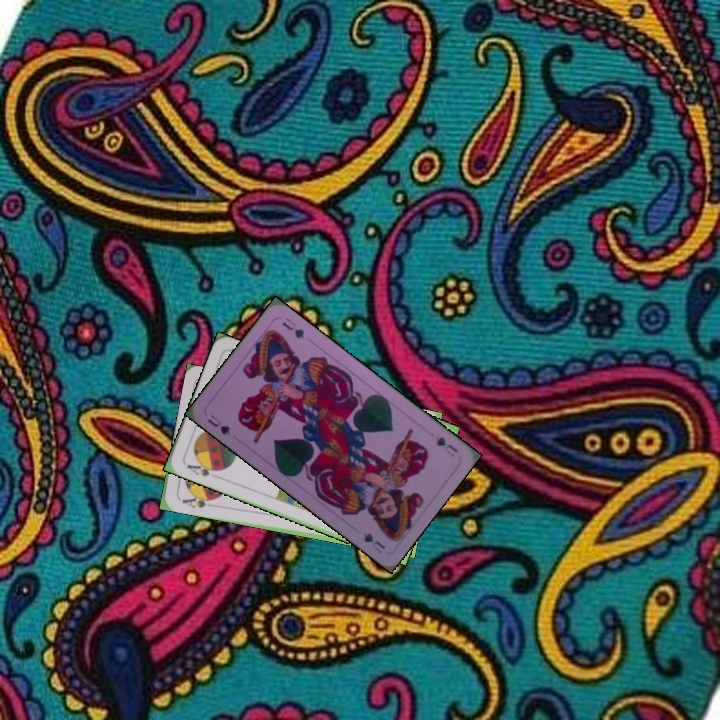GU: (432, 432, 461, 460), (203, 411, 233, 438)
SA: (183, 457, 223, 479), (178, 490, 217, 511)
